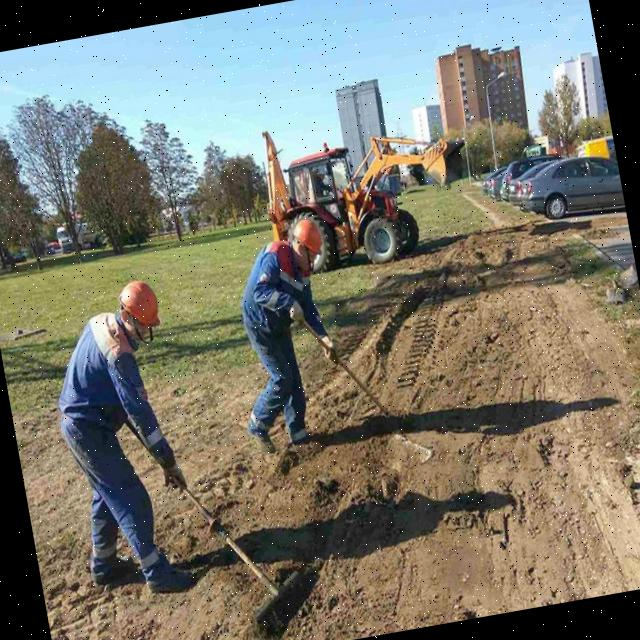Helmet: (115, 278, 163, 339), (290, 217, 324, 258)
Jacket: (50, 315, 159, 468), (239, 239, 321, 356)
